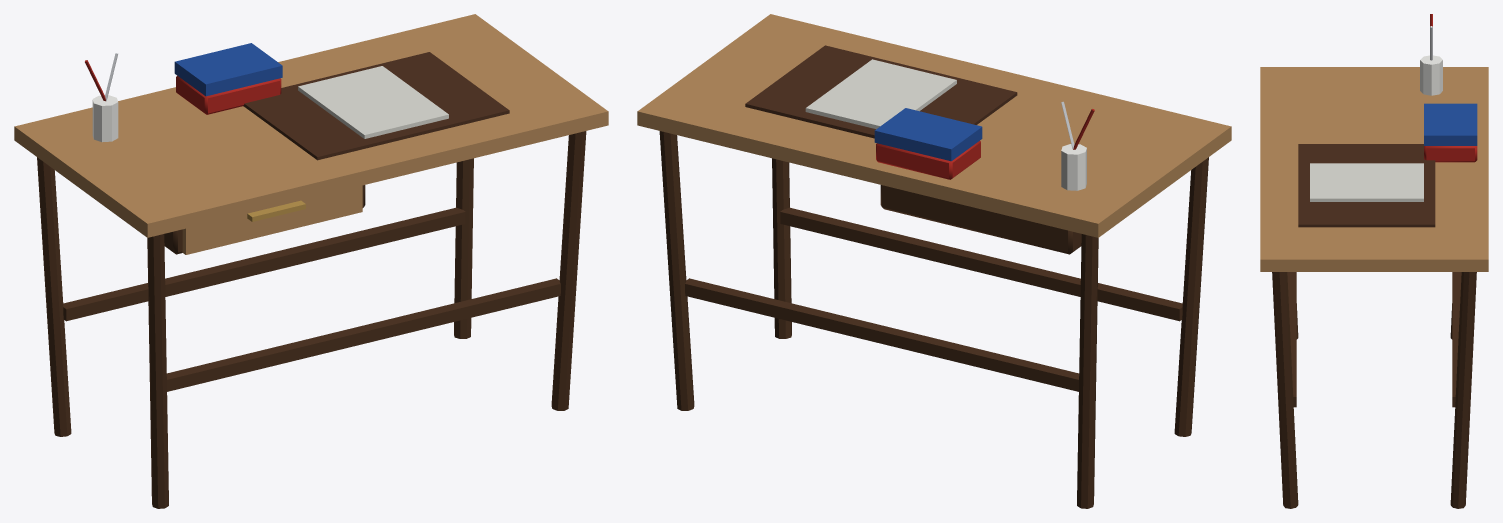
File: desk_writing_desk.glb
The picture shows the model from 3 angles, left to right: view 1: azimuth 30°, elevation 25°; view 2: azimuth 150°, elevation 25°; view 3: azimuth 270°, elevation 25°; orthographic projection. The views are drawn at different scales.
Parts seen in each view (by area): view 1: desk_writing_desk; view 2: desk_writing_desk; view 3: desk_writing_desk.
Part boxes in pixels (x1=…): desk_writing_desk: x1=14, y1=14, x2=608, y2=508; desk_writing_desk: x1=637, y1=14, x2=1231, y2=508; desk_writing_desk: x1=1260, y1=14, x2=1488, y2=508.
Bounding box in the file's own units: 1.2 × 0.9528 × 0.6.
